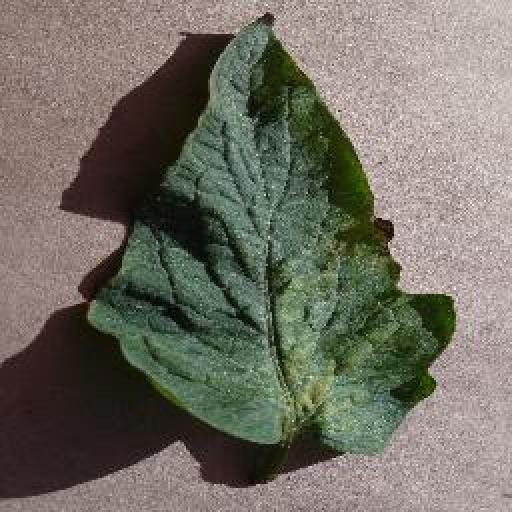disease_tomato: (88, 8, 457, 456)
